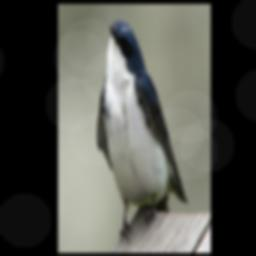Swallow: (96, 18, 189, 244)
